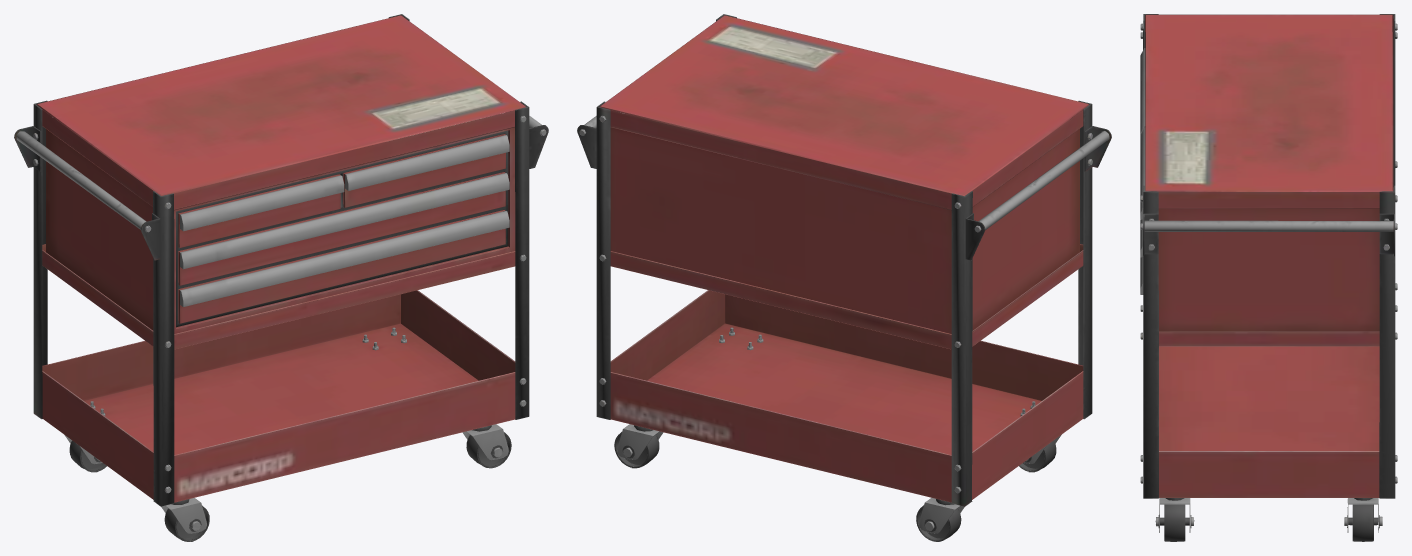
Rendered from toolbox.glb.
The picture shows the model from 3 angles, left to right: view 1: azimuth 30°, elevation 25°; view 2: azimuth 150°, elevation 25°; view 3: azimuth 270°, elevation 25°; orthographic projection.
Visible parts, largest first — view 1: tool_chest_low_default_0; view 2: tool_chest_low_default_0; view 3: tool_chest_low_default_0.
Part boxes in pixels (<box>): tool_chest_low_default_0: <box>14,14,548,541</box>; tool_chest_low_default_0: <box>577,14,1111,541</box>; tool_chest_low_default_0: <box>1140,14,1397,541</box>.
Size of the model in its own units: 0.45 by 0.3833 by 0.248.
Materials: 1 (1 with a texture image).
